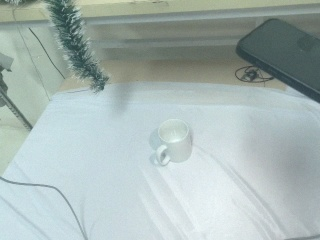cup: (148, 117, 194, 167)
phone: (234, 16, 320, 113)
